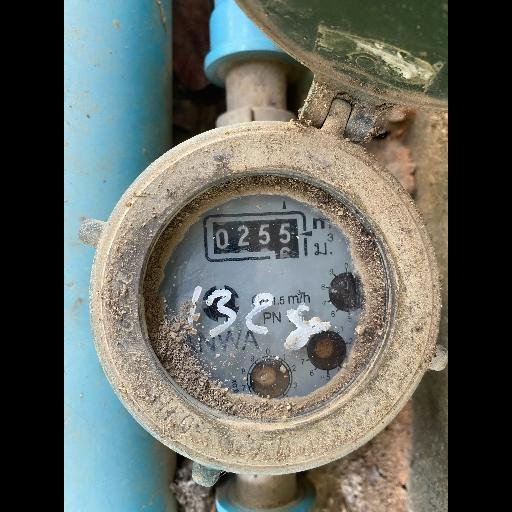0: (213, 222, 236, 255)
2: (233, 221, 255, 254)
5: (274, 219, 299, 259), (253, 220, 276, 252)
border_water_meter_number: (204, 211, 309, 264)
